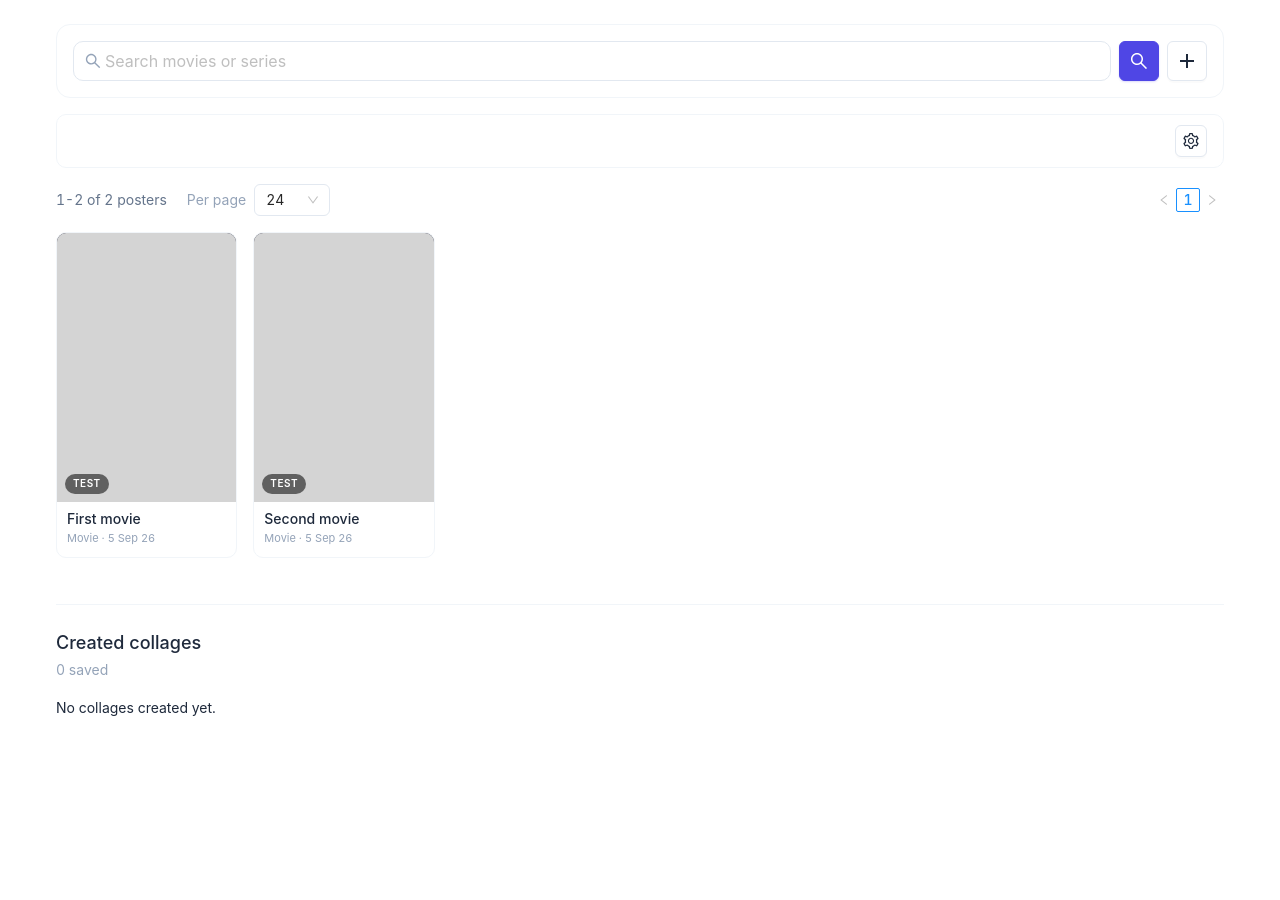
Test: settings gear holds clear all posters
The width and height of the screenshot is (1280, 900).
Click the button named "Poster settings".
click(1191, 141)  # box [1175,125,1207,157]
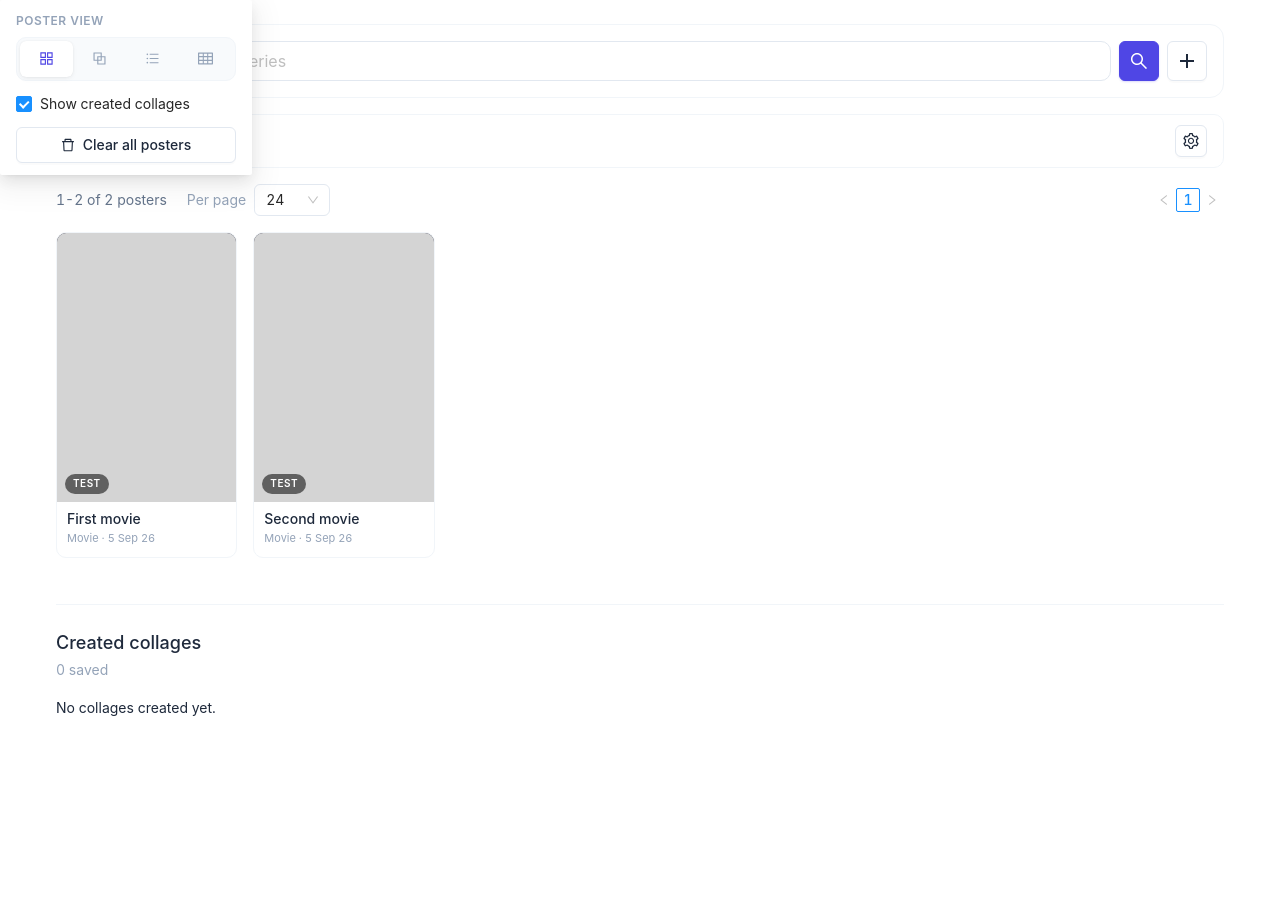
Click the button "Clear all posters".
click(126, 145)  # box [16,127,236,163]
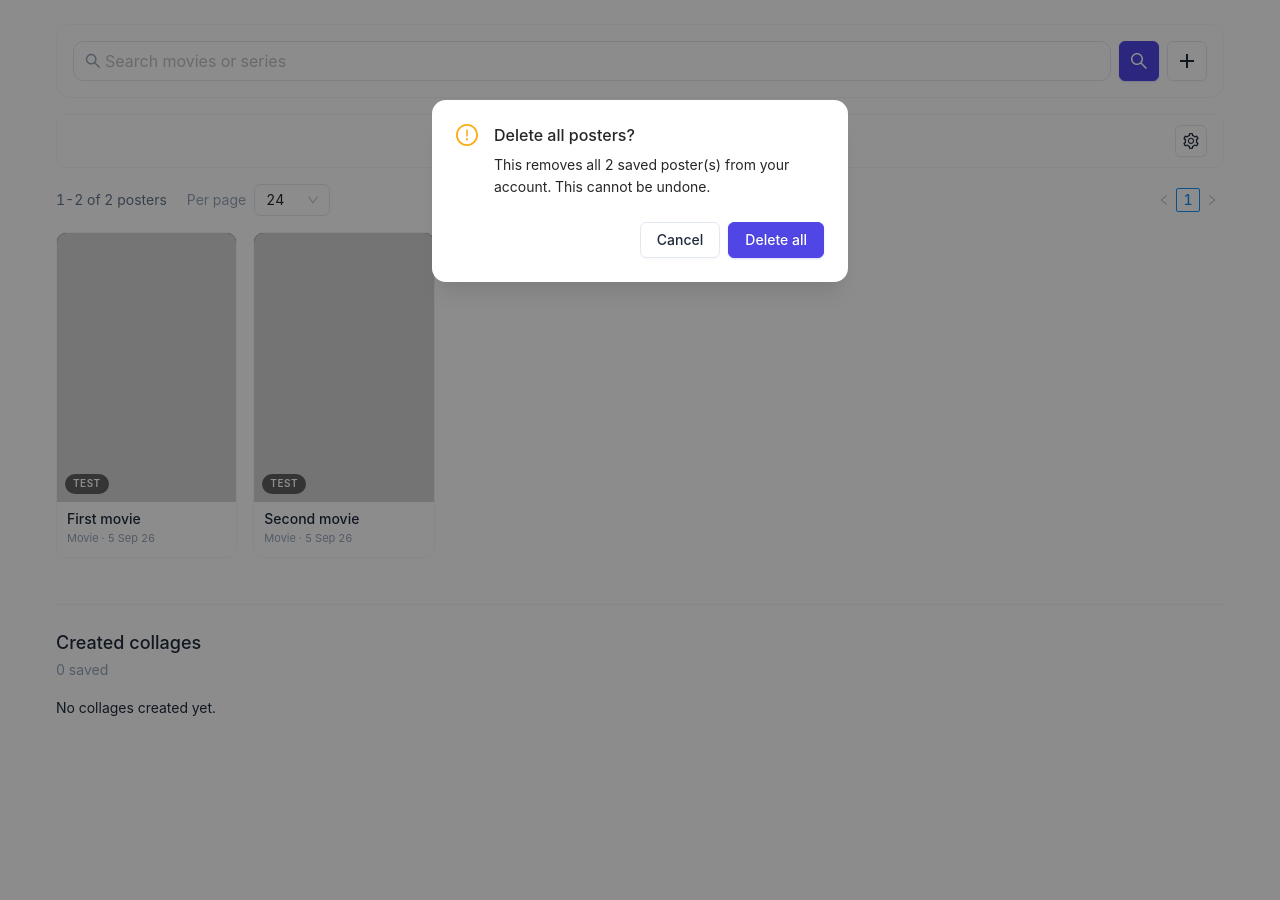
Now the text "Delete all posters?" is shown, box [494,125,635,145]
